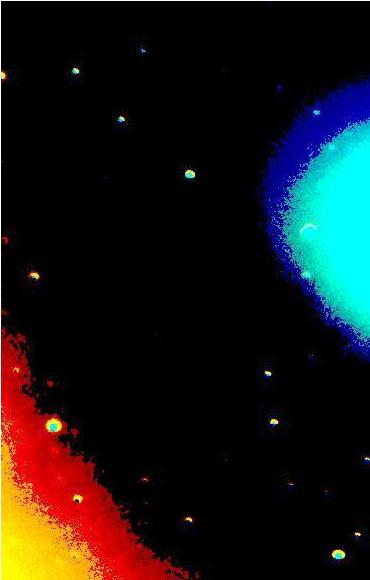star: (34, 366, 64, 396)
